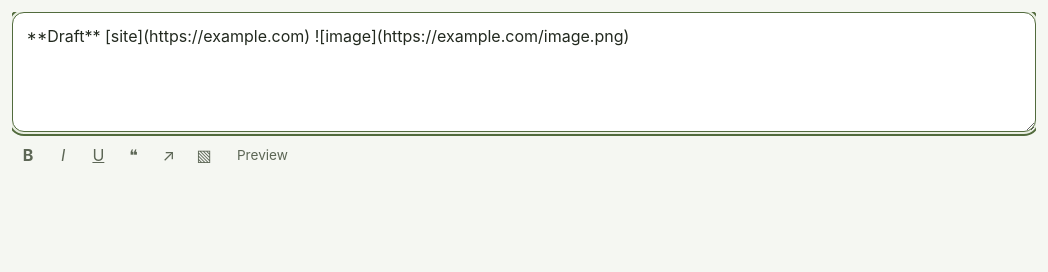
Test: MarkdownComposer › toggles a live safe preview without losing the draft or navigating links
Click the button with class "markdown-preview-toggle" at (262, 156), box top-left (227, 140), bottom-right (298, 172)
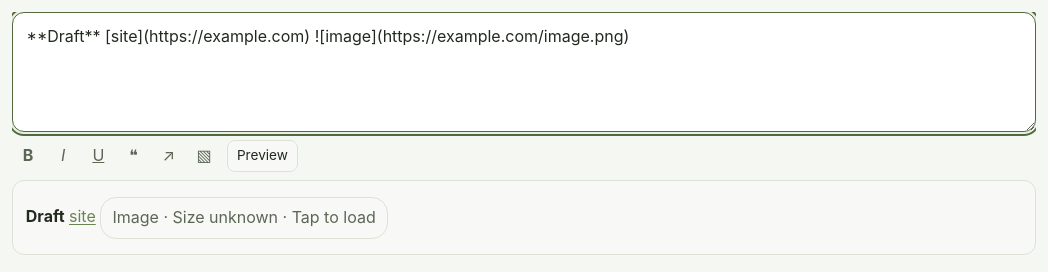
Expected: the text "Draft" is shown, top-left (26, 206), bottom-right (64, 226)
Expected: the text with class "markdown-preview-link" reads "site", top-left (69, 206), bottom-right (96, 226)
Expected: the element with class "markdown-image-placeholder" shows "Size unknown · Tap to load", top-left (100, 197), bottom-right (388, 239)
Click the button with class "markdown-preview-toggle" at (262, 156), box top-left (227, 140), bottom-right (298, 172)
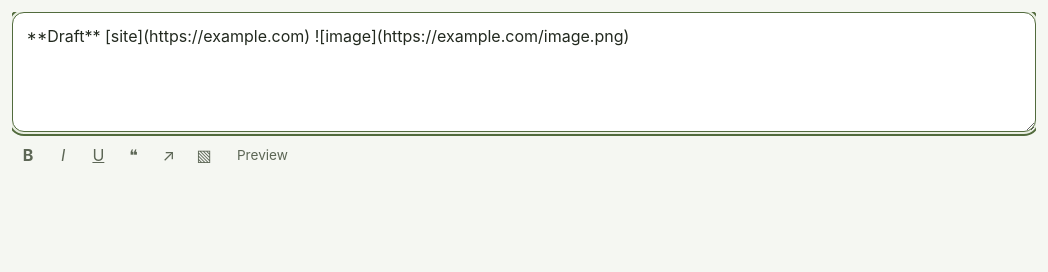
Expected: the element with class "markdown-composer-preview" is gone
